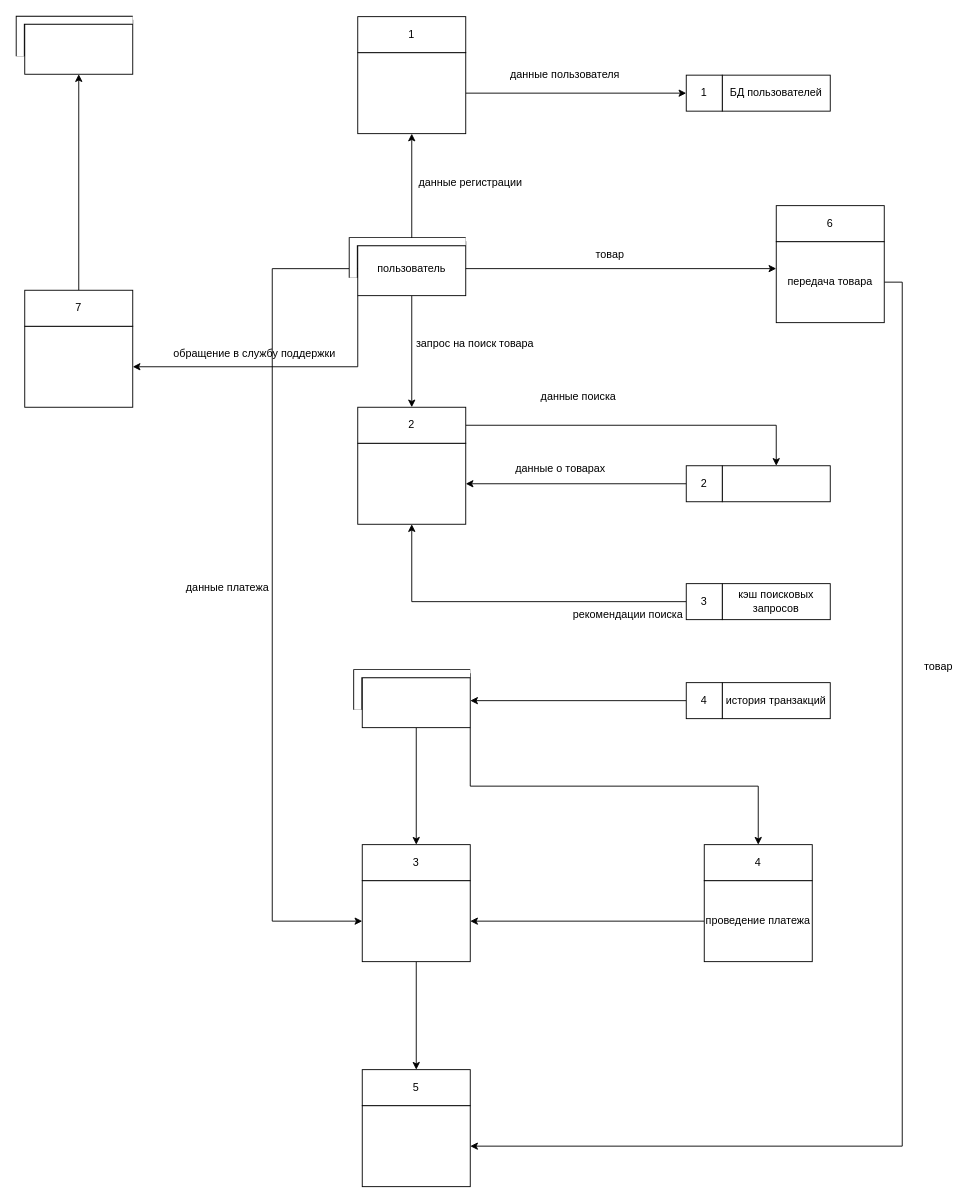
Image size: 980x1202. Some labels were removed from this diagram. The centre of each missing label's shape, as x and y in pixels:
"каталог товаров" belongs at (x=775, y=483).
"обработка обращений в поддержку" belongs at (x=78, y=366).
"оформление покупки" belongs at (x=415, y=921).
"платежная система" belongs at (x=415, y=700).
"поекупка" belongs at (x=415, y=1146).
"поиск товара" belongs at (x=411, y=483).
"регистрация" belongs at (x=411, y=93).
"служба поддержки" belongs at (x=78, y=46).
